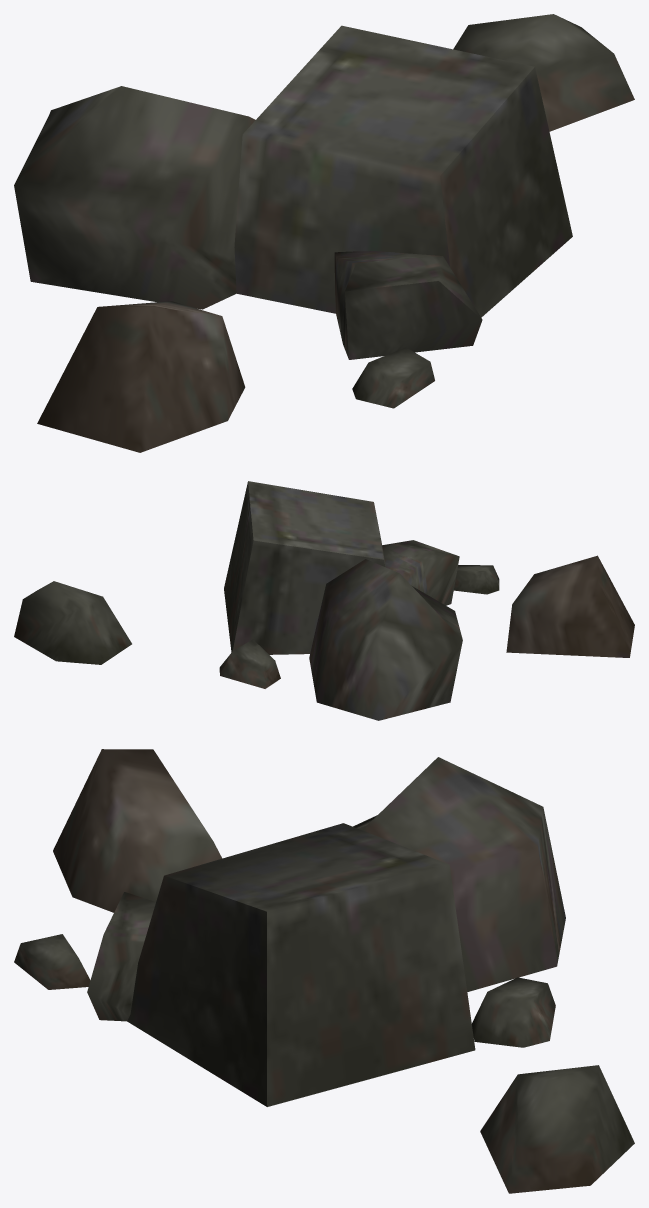
Rendered from h5_suishi_a.FBX.
The picture shows the model from 3 angles, top to bottom: view 1: azimuth 30°, elevation 25°; view 2: azimuth 150°, elevation 25°; view 3: azimuth 270°, elevation 25°; orthographic projection. The views are drawn at different scales.
Parts seen in each view (by area): view 1: h5_suishi_a; view 2: h5_suishi_a; view 3: h5_suishi_a.
Part boxes in pixels (<box>): h5_suishi_a: <box>14,14,634,452</box>; h5_suishi_a: <box>14,481,634,720</box>; h5_suishi_a: <box>14,749,634,1193</box>.
Size of the model in its own units: 3.57 by 0.8114 by 2.51.
